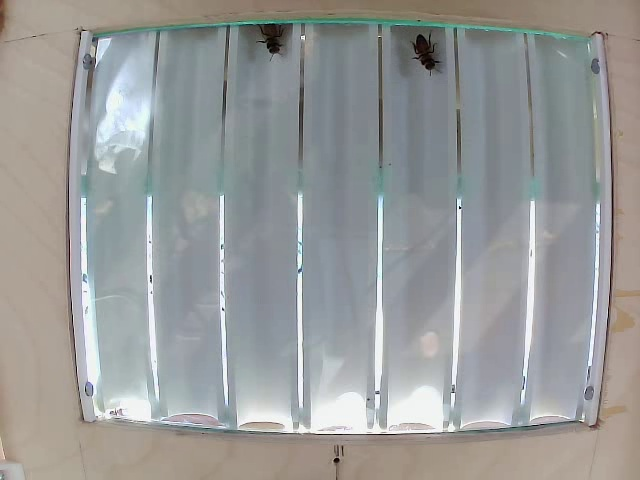bee: (253, 16, 286, 68), (408, 27, 437, 81)
